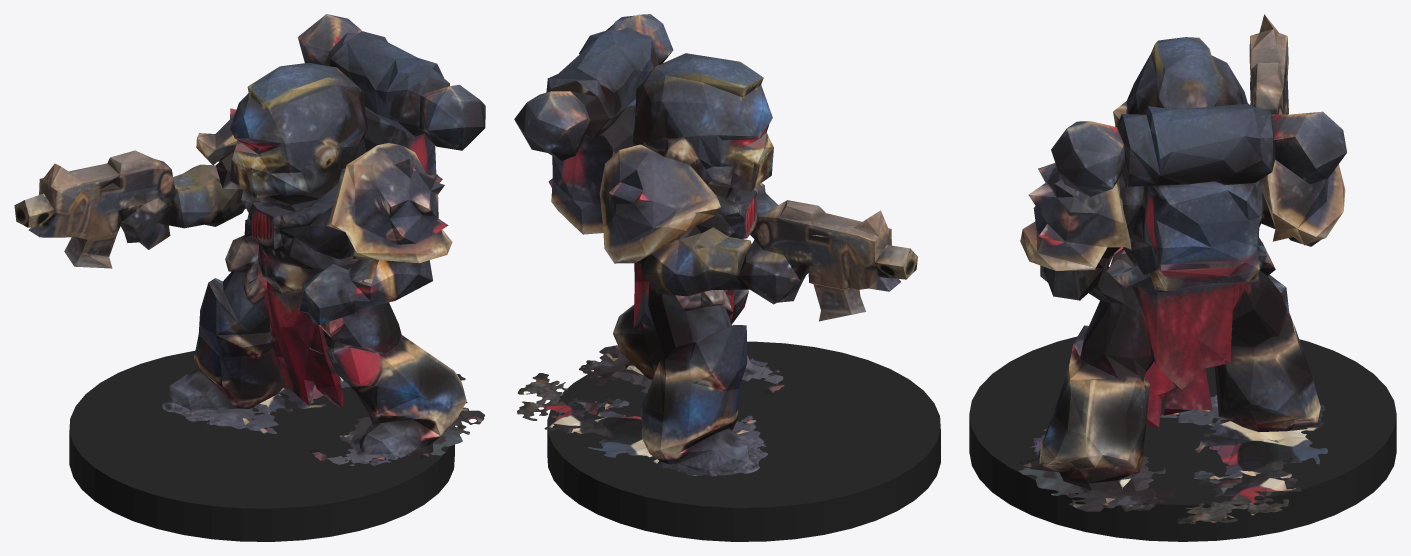
File: lg-warrior-b.glb
3 renders of one model, left to right at view 1: azimuth 30°, elevation 25°; view 2: azimuth 150°, elevation 25°; view 3: azimuth 270°, elevation 25°, orthographic. The views are drawn at different scales.
Parts seen in each view (by area): view 1: figure, base; view 2: figure, base; view 3: figure, base.
Part boxes in pixels (box(x1,y1,x2,y2)): figure: box(14, 14, 485, 466); base: box(69, 348, 454, 541); figure: box(514, 14, 917, 476); base: box(547, 341, 940, 541); figure: box(1019, 14, 1346, 523); base: box(969, 336, 1396, 541).
Bounding box in the file's own units: 1.53 × 1.37 × 1.26.
2 materials, 1 textured.
